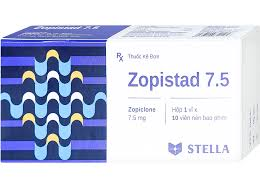Zopitad: (128, 73, 201, 85)
